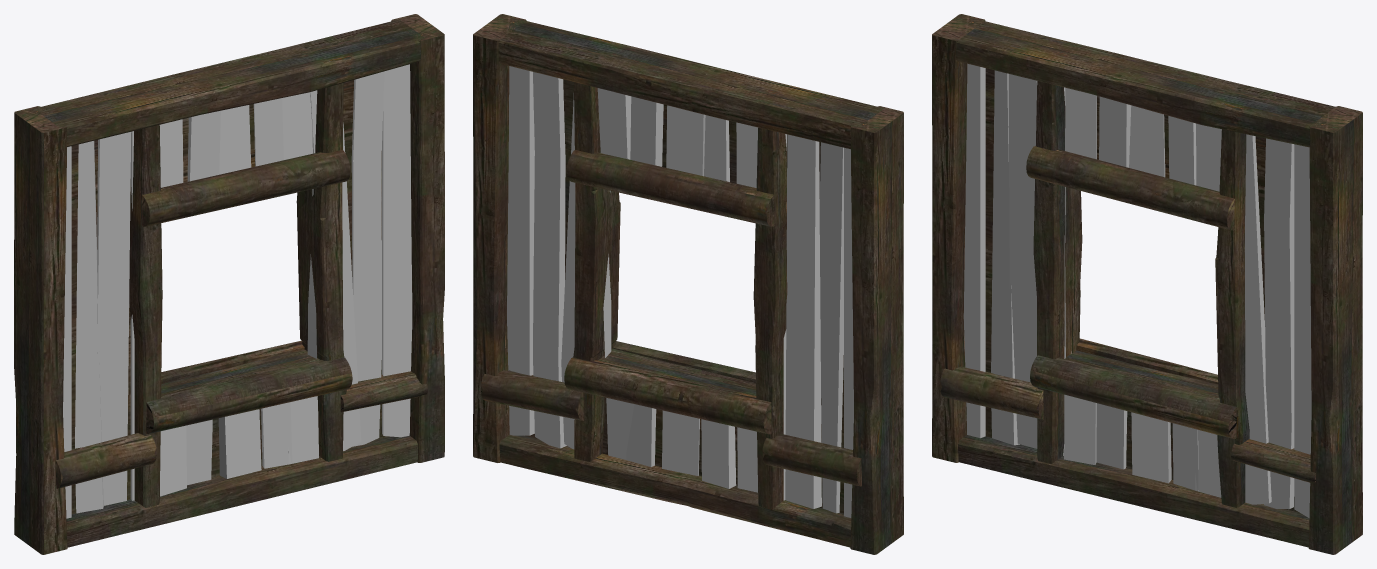
The picture shows the model from 3 angles, left to right: view 1: azimuth 30°, elevation 25°; view 2: azimuth 150°, elevation 25°; view 3: azimuth 330°, elevation 25°; orthographic projection.
Visible parts, largest first — view 1: SM_BB_T1_Wall_Large_Windowframe_LOD0; view 2: SM_BB_T1_Wall_Large_Windowframe_LOD0; view 3: SM_BB_T1_Wall_Large_Windowframe_LOD0.
Part boxes in pixels (left/top/right/bottom): SM_BB_T1_Wall_Large_Windowframe_LOD0: left=14, top=14, right=444, bottom=554; SM_BB_T1_Wall_Large_Windowframe_LOD0: left=473, top=14, right=903, bottom=554; SM_BB_T1_Wall_Large_Windowframe_LOD0: left=932, top=14, right=1362, bottom=554.
Size of the model in its own units: 3 by 3 by 0.5466.
